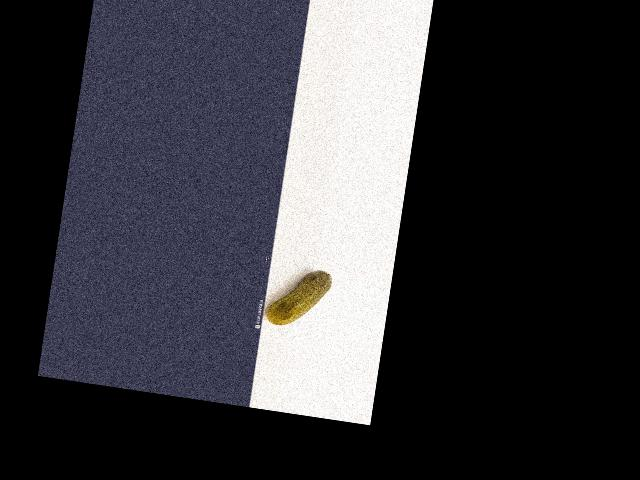cucumber: (264, 263, 332, 332)
